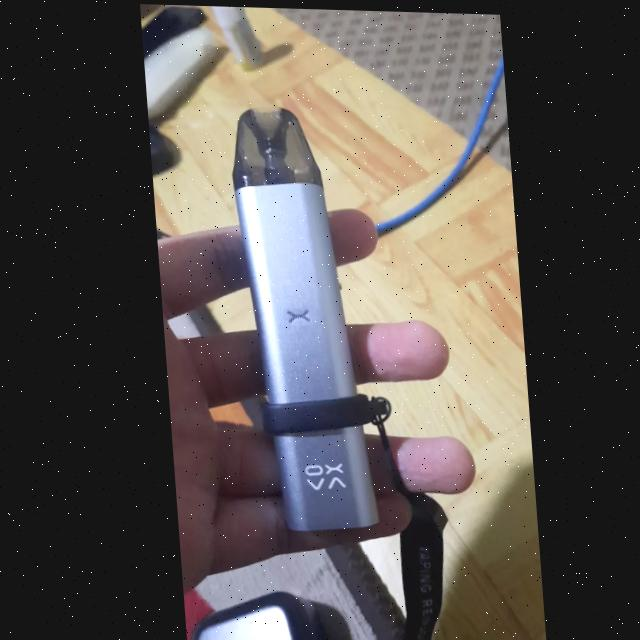vape: (225, 104, 375, 532)
